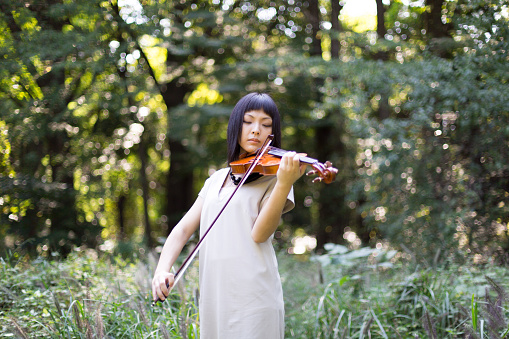em pe: (153, 80, 324, 339)
